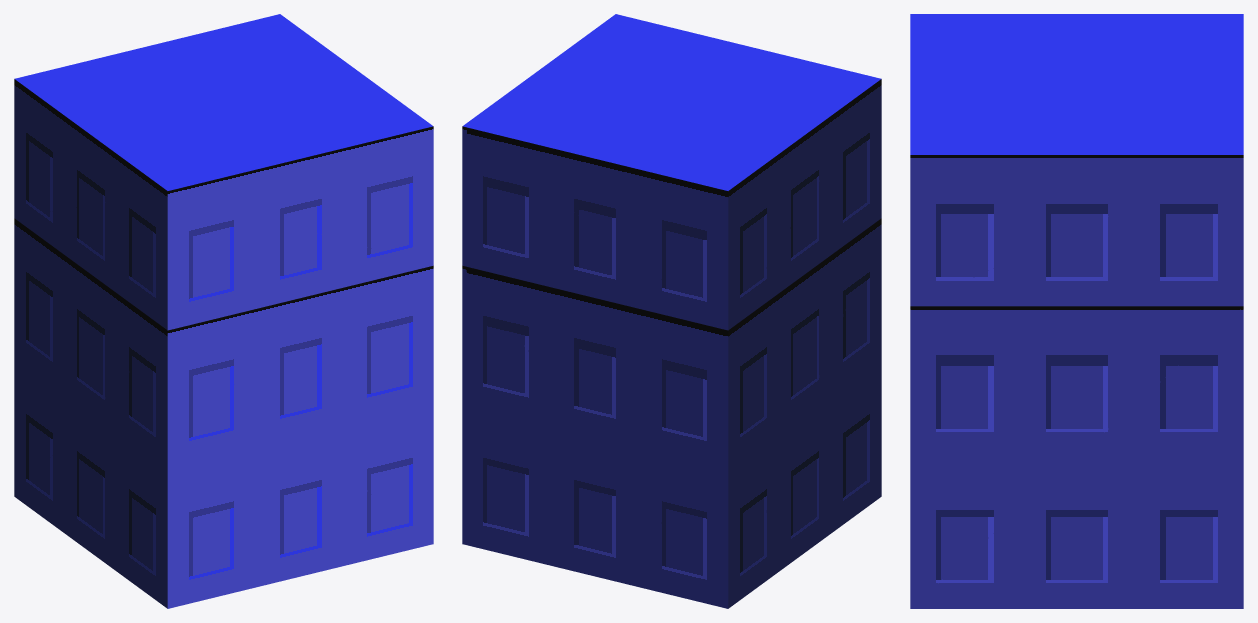
File: building3.glb
The picture shows the model from 3 angles, left to right: view 1: azimuth 30°, elevation 25°; view 2: azimuth 150°, elevation 25°; view 3: azimuth 270°, elevation 25°; orthographic projection. The views are drawn at different scales.
Parts seen in each view (by area): view 1: Cube.011; view 2: Cube.011; view 3: Cube.011.
Boxes of the visible parts, box(x1,y1,x2,y2) form: Cube.011: box(14, 14, 433, 608); Cube.011: box(462, 14, 881, 608); Cube.011: box(910, 14, 1243, 608).
Bounding box in the file's own units: 10 × 15.02 × 10.
1 material, 1 textured.
